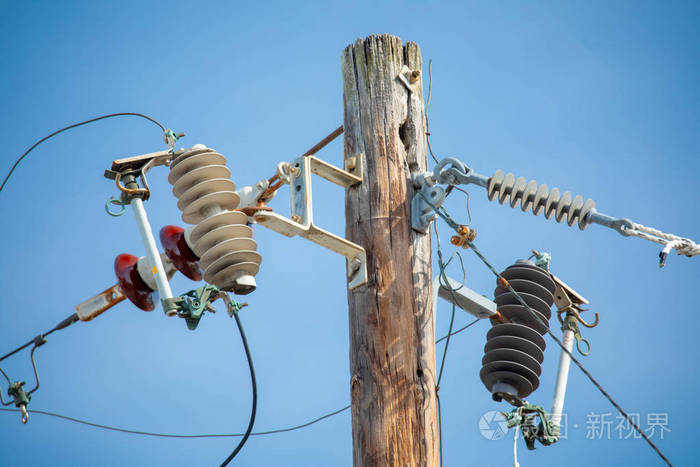insulator: (167, 153, 265, 278), (479, 263, 553, 392), (116, 223, 195, 311), (484, 170, 594, 228)
